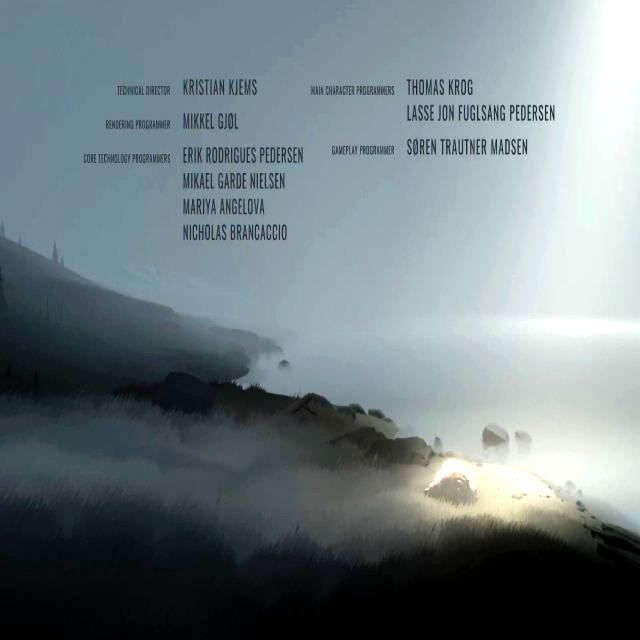blob: (426, 456, 478, 504)
